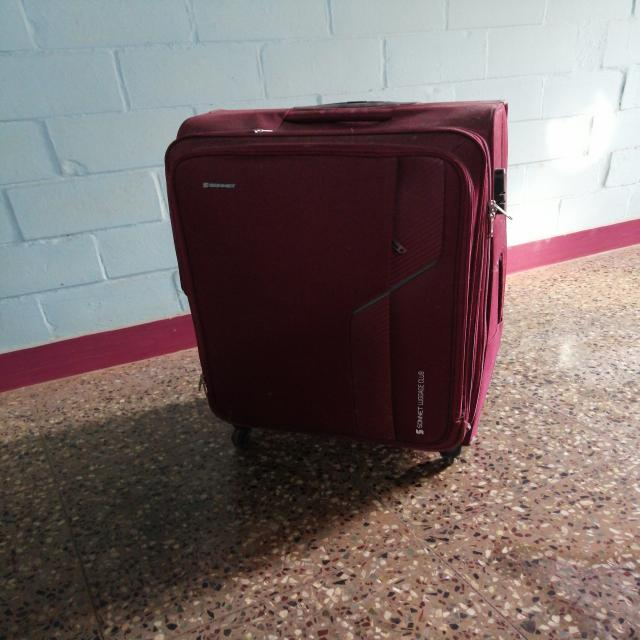suitcaserotation: (160, 93, 512, 464)
